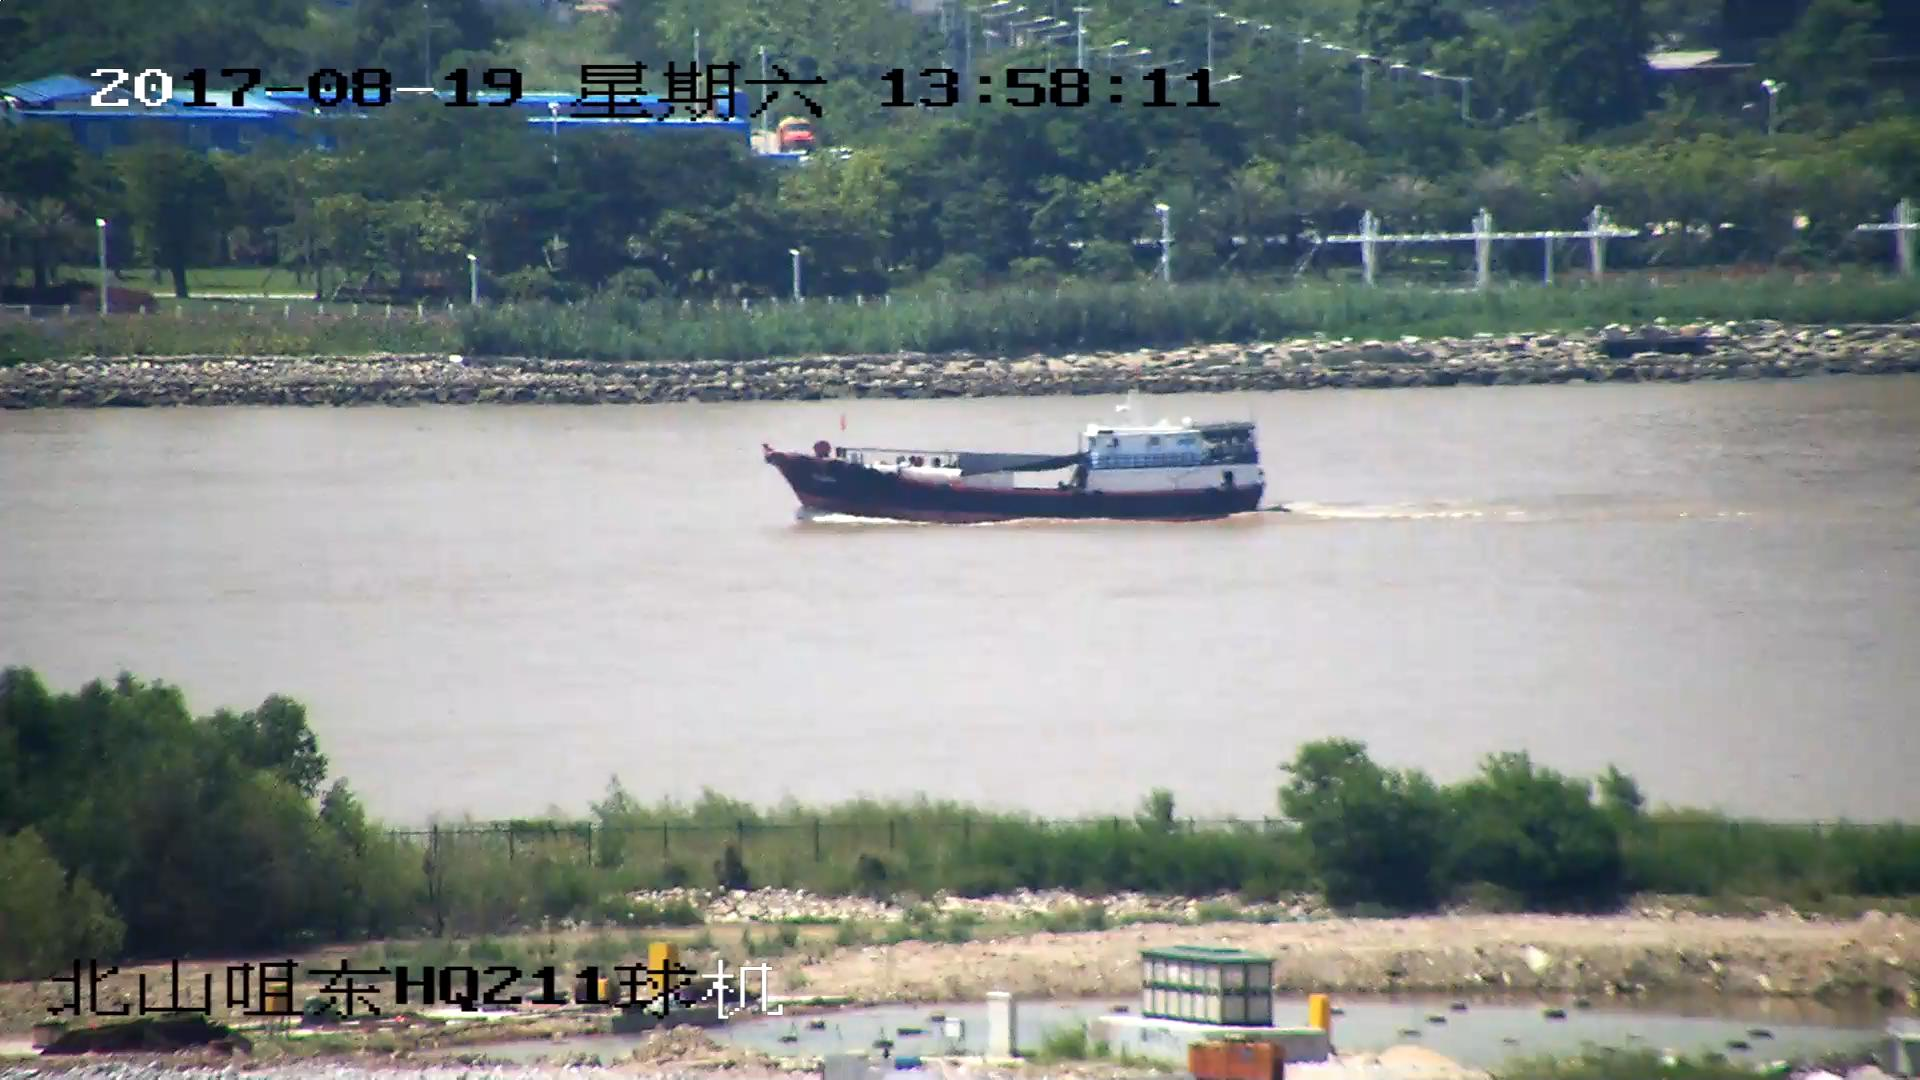fishing boat: (764, 415, 1266, 523)
